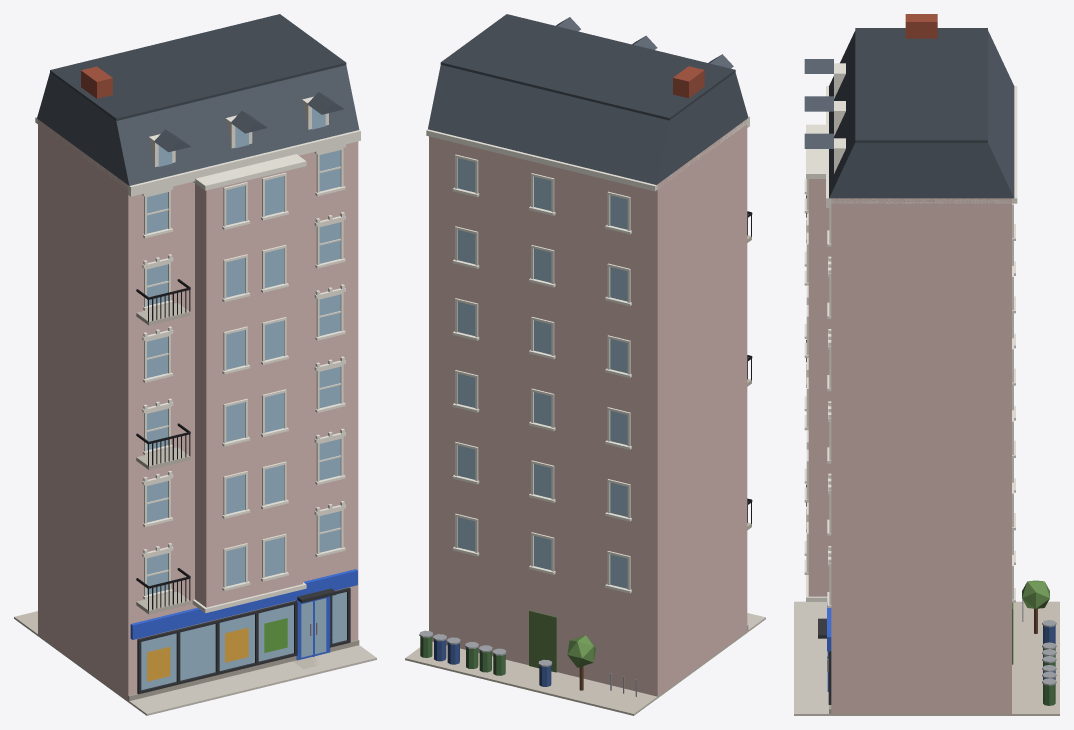
Rendered from Blok_duz_7k_4_Hafif.fbx.
3 views of the same model, side by side, from view 1: azimuth 30°, elevation 25°; view 2: azimuth 150°, elevation 25°; view 3: azimuth 270°, elevation 25° (orthographic).
Parts seen in each view (by area): view 1: Blok_duz_7k_4_Hafif; view 2: Blok_duz_7k_4_Hafif; view 3: Blok_duz_7k_4_Hafif.
Part boxes in pixels (x1,y1,x2,y2): Blok_duz_7k_4_Hafif: [14, 14, 376, 715]; Blok_duz_7k_4_Hafif: [405, 14, 765, 715]; Blok_duz_7k_4_Hafif: [794, 14, 1059, 715].
Size of the model in its own units: 10 by 24.62 by 10.
